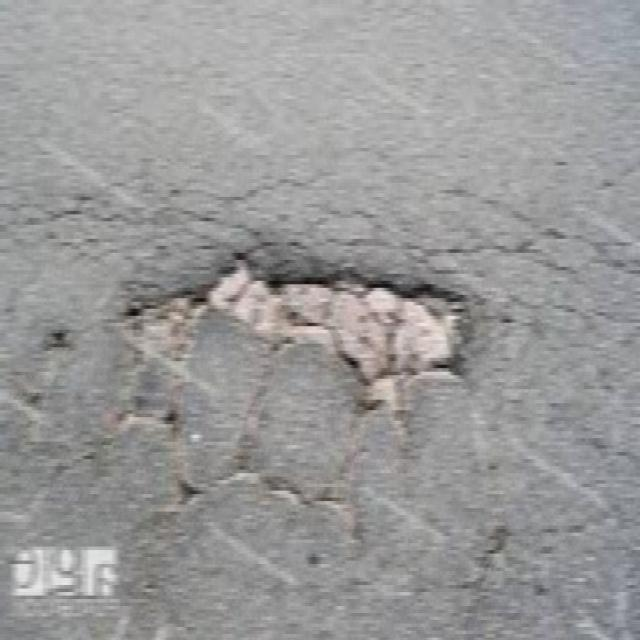Pothole: (89, 234, 510, 422)
